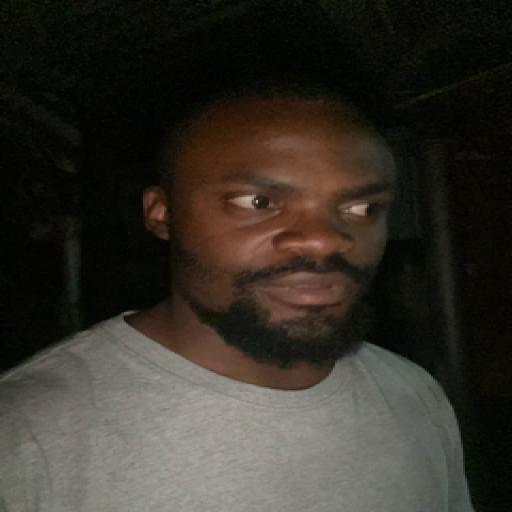JEANLUC: (129, 43, 409, 372)
